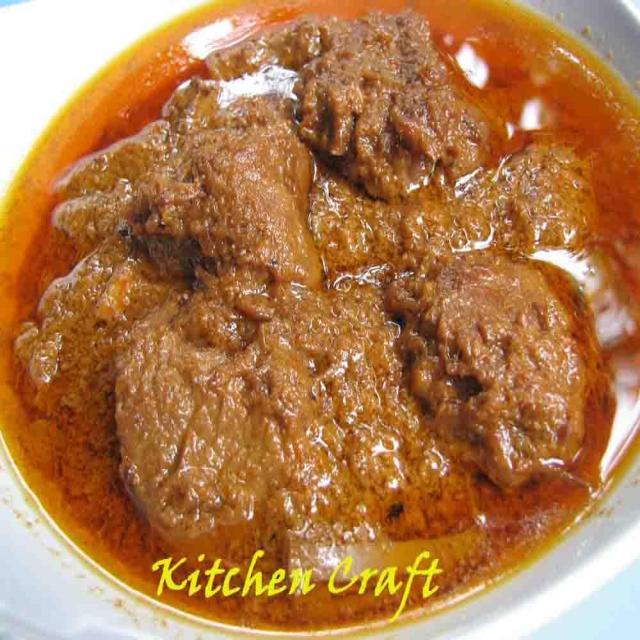Rendang: (0, 16, 640, 535)
